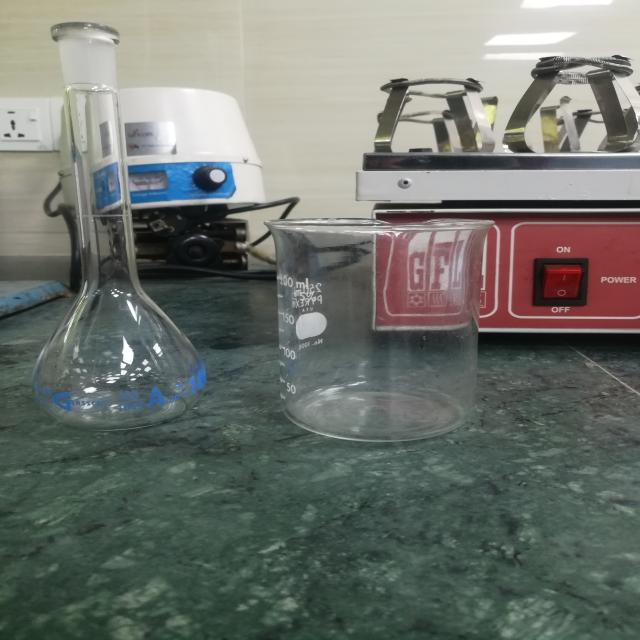Beaker: (252, 196, 521, 454)
Volumetric_Flask: (15, 8, 227, 447)
